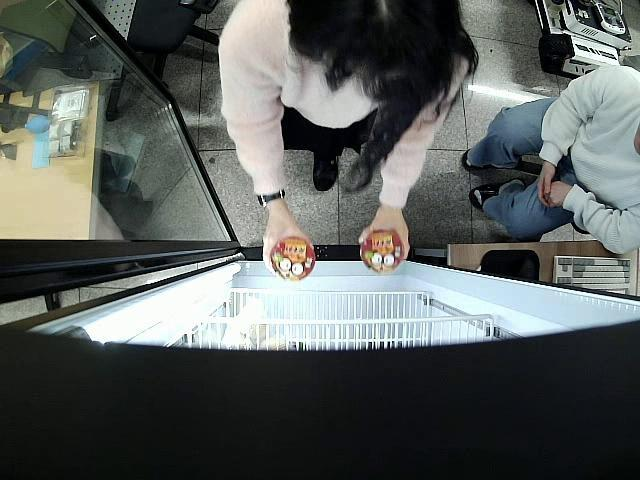06_nuguri_S: (268, 234, 315, 281), (360, 229, 404, 276)
